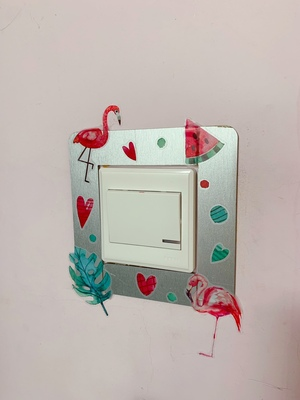switch: (101, 180, 186, 255)
